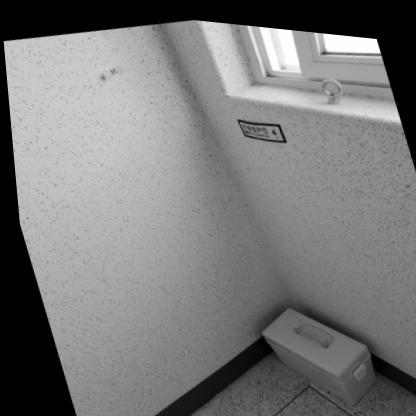DDL: (246, 284, 377, 414)
